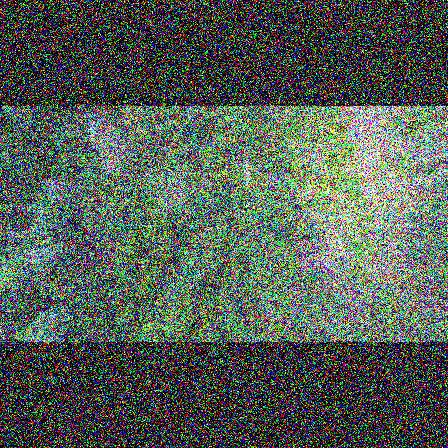Dead: (85, 119, 136, 164), (18, 243, 77, 270), (46, 175, 80, 212), (0, 224, 42, 247)
Sick: (149, 177, 208, 217), (100, 158, 131, 187)
